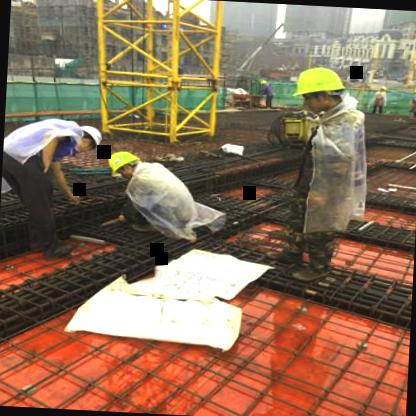helmet: (288, 60, 350, 115), (64, 119, 107, 156), (104, 149, 141, 180)
